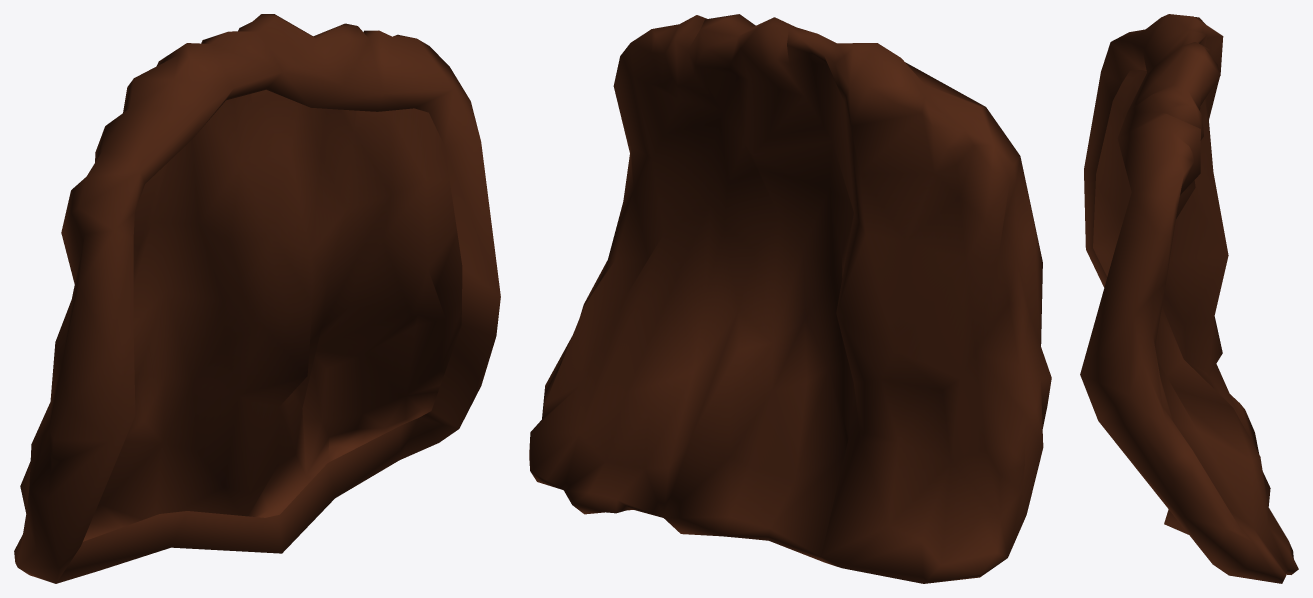
The model's file is env_digsiterock_wall03_lod2.fbx.
3 views of the same model, side by side, from view 1: azimuth 30°, elevation 25°; view 2: azimuth 150°, elevation 25°; view 3: azimuth 270°, elevation 25° (orthographic). The views are drawn at different scales.
Parts seen in each view (by area): view 1: env_digsiterock_wall03.003; view 2: env_digsiterock_wall03.003; view 3: env_digsiterock_wall03.003.
Part boxes in pixels (x1=…): env_digsiterock_wall03.003: x1=14, y1=14, x2=500, y2=583; env_digsiterock_wall03.003: x1=529, y1=14, x2=1051, y2=583; env_digsiterock_wall03.003: x1=1080, y1=14, x2=1298, y2=583.
Size of the model in its own units: 758 by 803 by 327.
